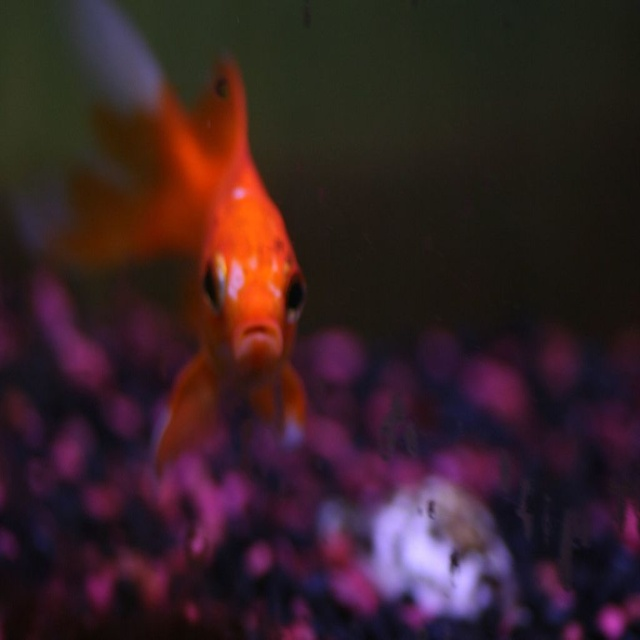Goldfish: (52, 10, 306, 449)
